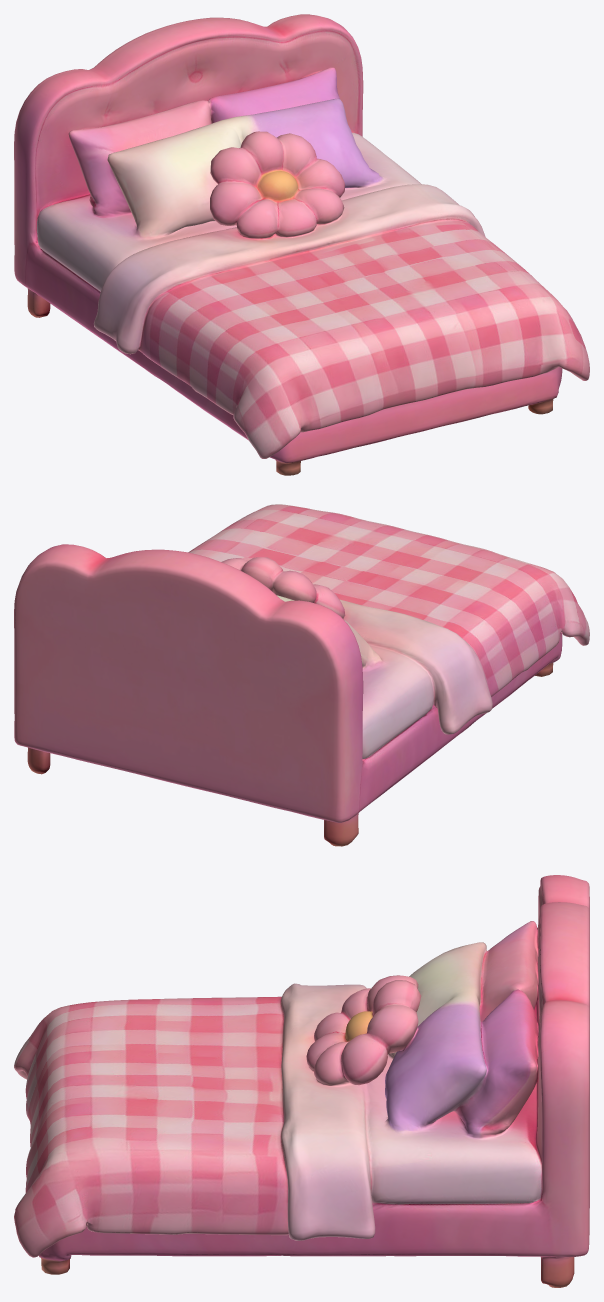
The model's file is bed.glb.
3 renders of one model, top to bottom at view 1: azimuth 30°, elevation 25°; view 2: azimuth 150°, elevation 25°; view 3: azimuth 270°, elevation 25°, orthographic. The views are drawn at different scales.
Parts seen in each view (by area): view 1: model; view 2: model; view 3: model.
Part boxes in pixels (<box>): model: <box>14,14,589,475</box>; model: <box>14,504,589,846</box>; model: <box>14,875,589,1287</box>.
Size of the model in its own units: 1.6 by 1.02 by 1.9.
Materials: 1 (1 with a texture image).
